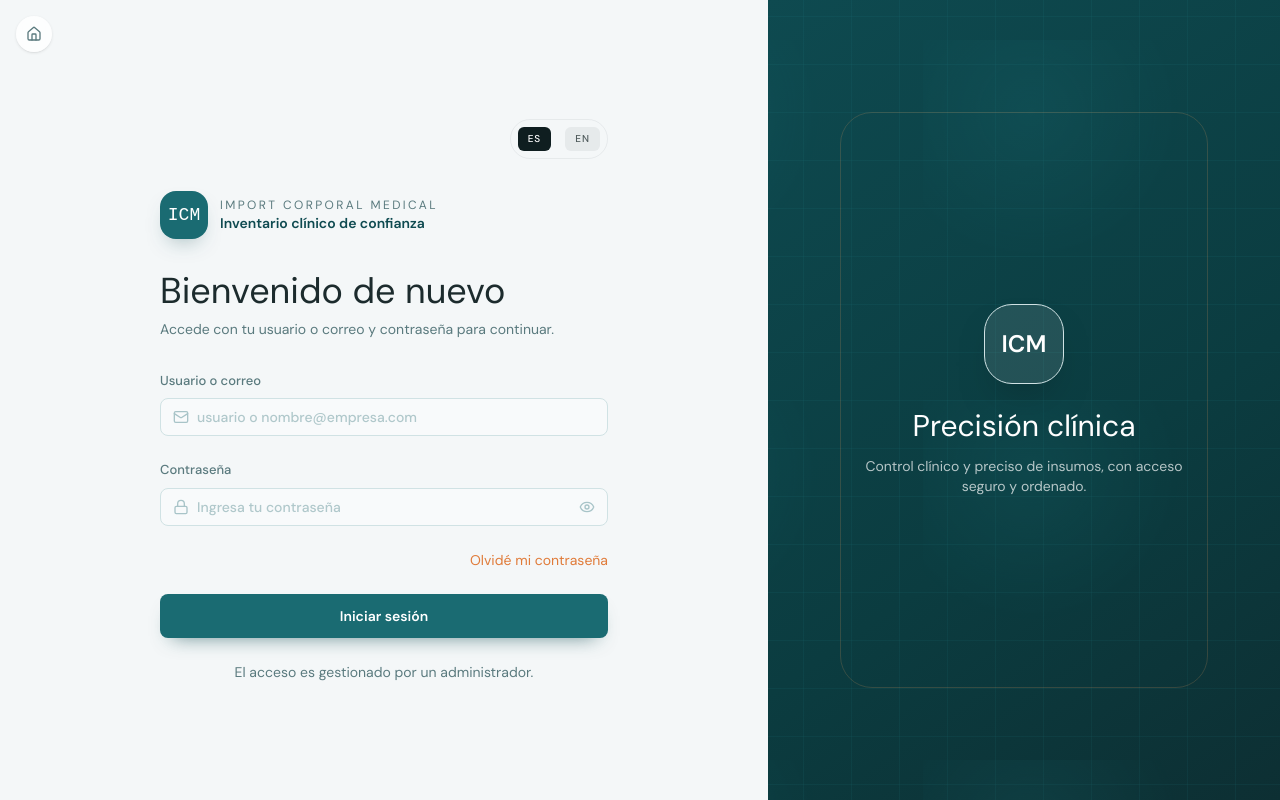
Test case: LoginPage — integración › Validaciones del formulario › debería mostrar error si el identifier es muy corto
Type "ab" into the field labelled "Usuario o correo". click: point(396, 417)
box: [197,407,595,427]
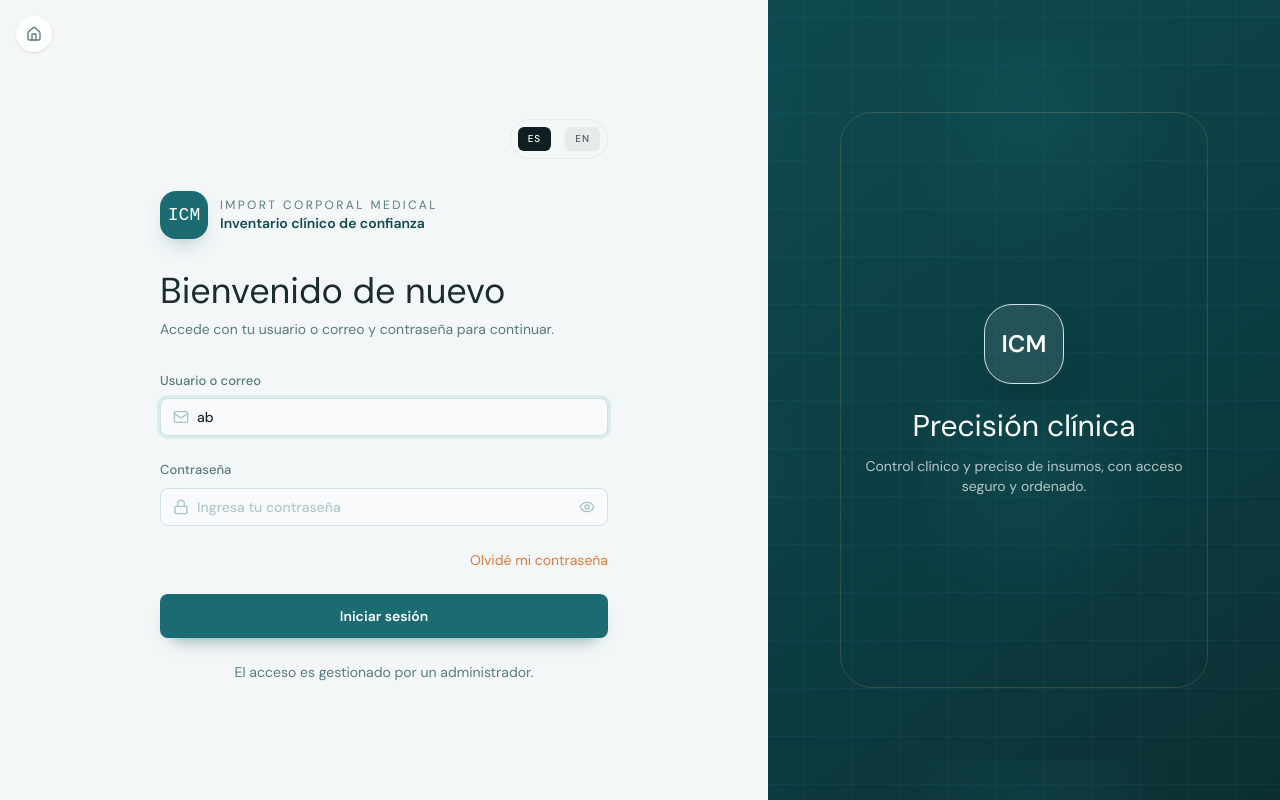
Type "password123" into the password field labelled "Contraseña". click: point(384, 506)
box: [197,496,571,516]
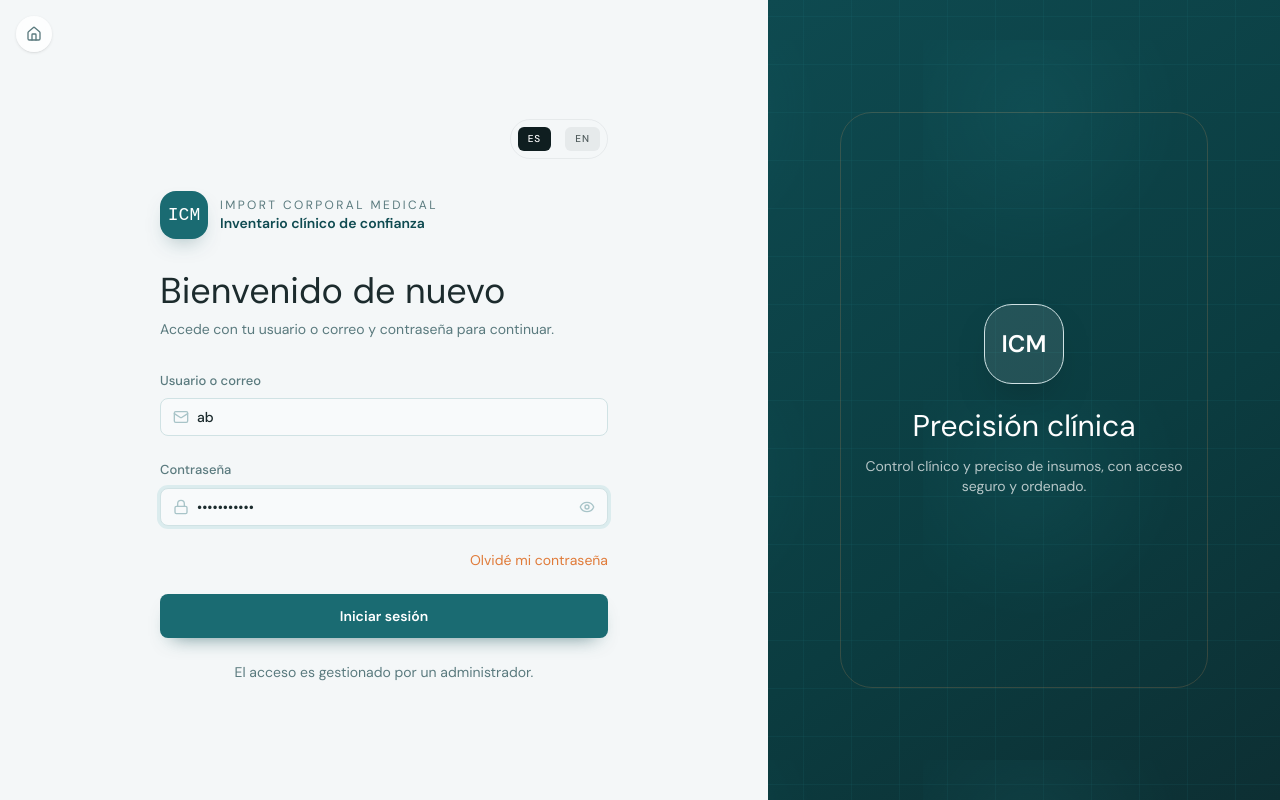
Click the button "Iniciar sesión". click: point(384, 616)
box: [160,594,608,638]
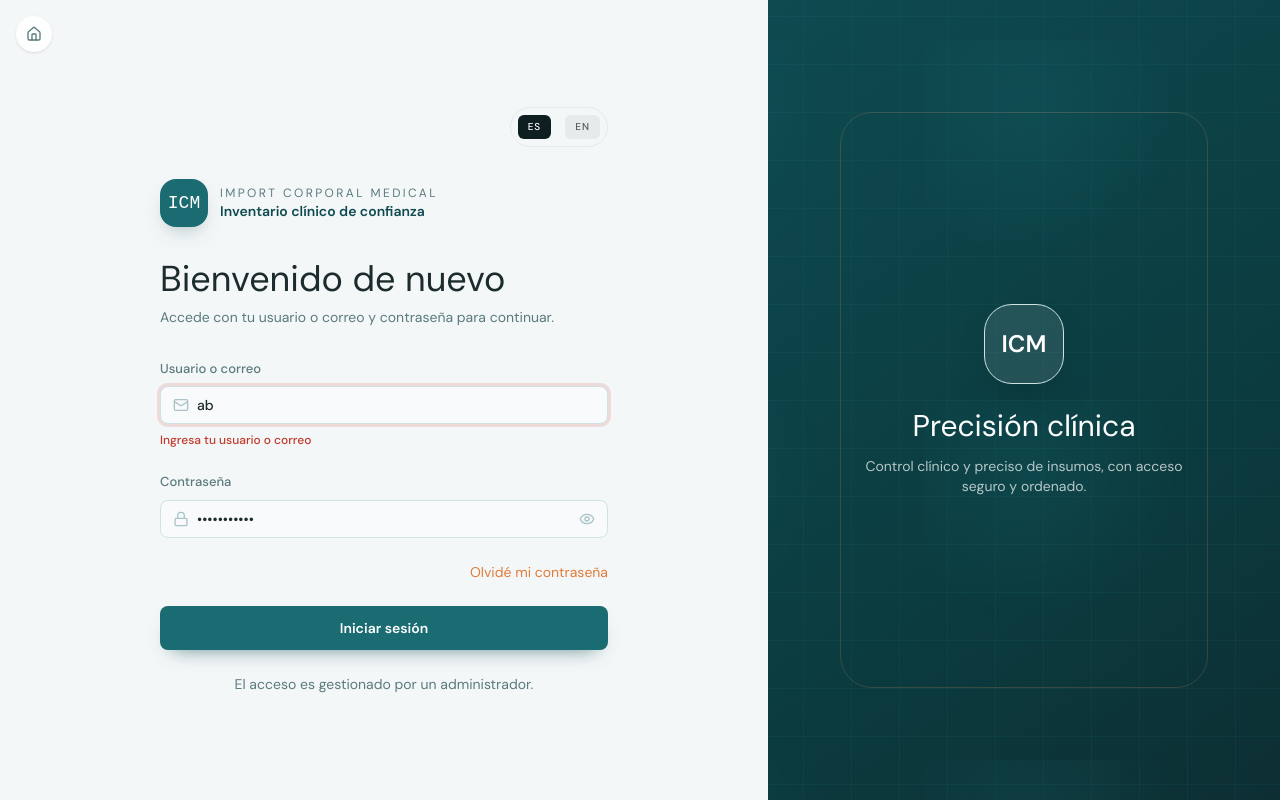
Expected: the text "Ingresa tu usuario o correo" is shown, [160,432,311,448]
